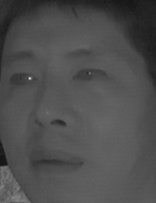eye: (72, 65, 108, 86), (6, 70, 40, 91)
mouth: (26, 140, 86, 177)
